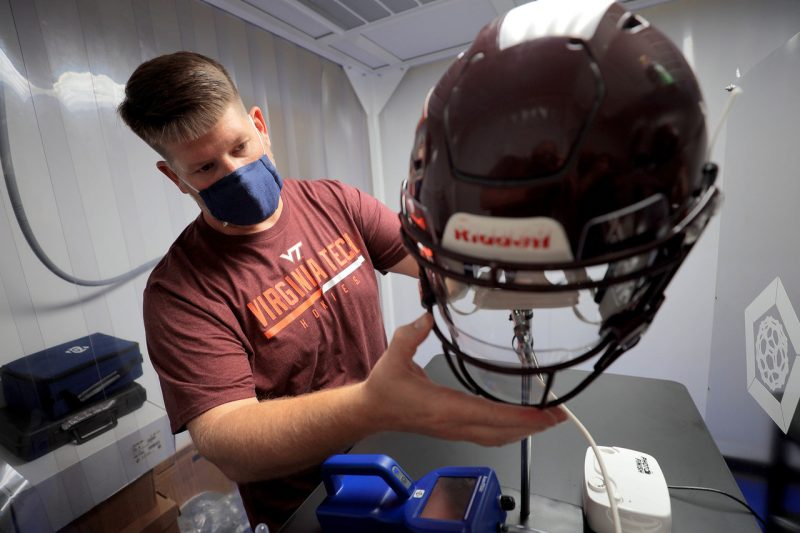with_mask: (170, 129, 288, 226)
